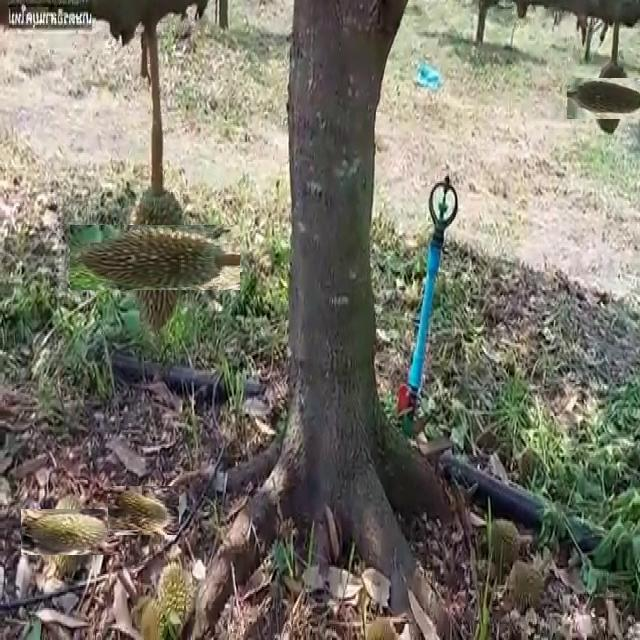durian: (96, 198, 214, 316), (136, 548, 200, 638), (34, 495, 107, 569), (579, 66, 640, 130), (113, 480, 174, 541)
